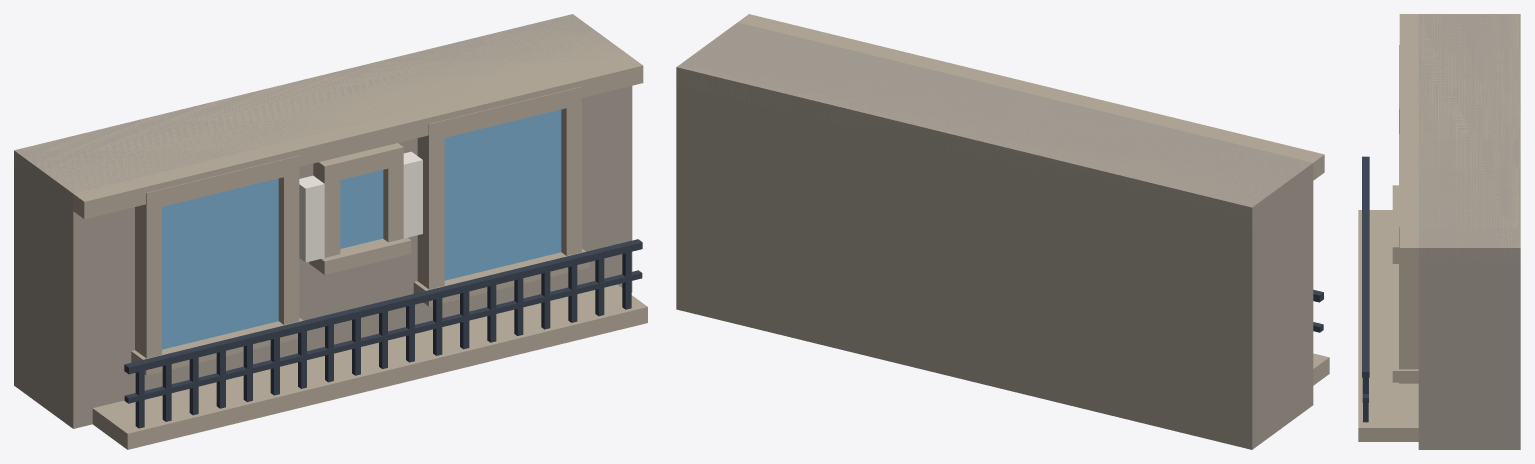
The model's file is cittaTortoraPianoB.glb.
The picture shows the model from 3 angles, left to right: view 1: azimuth 30°, elevation 25°; view 2: azimuth 150°, elevation 25°; view 3: azimuth 270°, elevation 25°; orthographic projection. The views are drawn at different scales.
Visible parts, largest first — view 1: cittaTortoraPianoB_stone, cittaTortoraPianoB_cittaTortora, cittaTortoraPianoB_glass, cittaTortoraPianoB_steelDark, cittaTortoraPianoB_white; view 2: cittaTortoraPianoB_cittaTortora, cittaTortoraPianoB_stone; view 3: cittaTortoraPianoB_cittaTortora, cittaTortoraPianoB_stone, cittaTortoraPianoB_steelDark.
Part boxes in pixels (x1,y1,x2,y2): cittaTortoraPianoB_stone: (14,14,647,449); cittaTortoraPianoB_cittaTortora: (14,14,632,428); cittaTortoraPianoB_glass: (162,109,561,349); cittaTortoraPianoB_steelDark: (124,239,642,428); cittaTortoraPianoB_white: (299,151,422,262); cittaTortoraPianoB_cittaTortora: (676,22,1313,449); cittaTortoraPianoB_stone: (676,14,1329,385); cittaTortoraPianoB_cittaTortora: (1418,14,1520,449); cittaTortoraPianoB_stone: (1358,14,1520,441); cittaTortoraPianoB_steelDark: (1362,156,1369,422).
Bounding box in the file's own units: 8.7 × 3.5 × 2.54.
